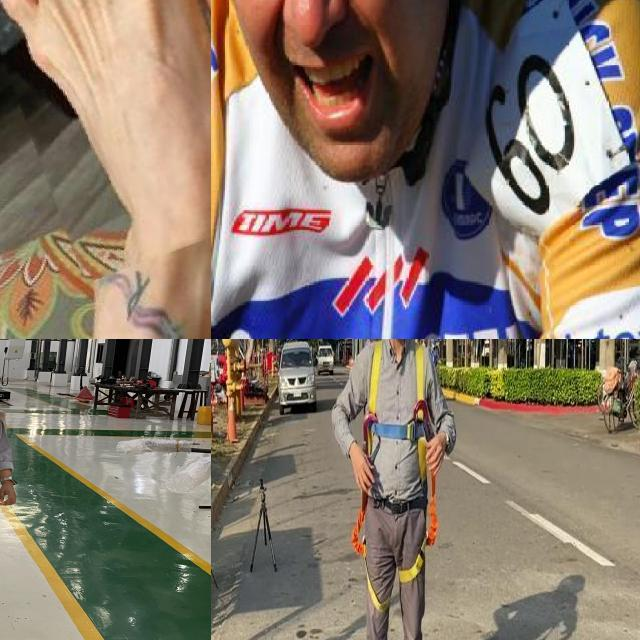Barefoots: (13, 0, 211, 255)
Harness: (364, 341, 439, 546)
face_nomask: (217, 0, 406, 130)
hand_noglove: (0, 478, 25, 508)
person: (0, 339, 41, 636)
